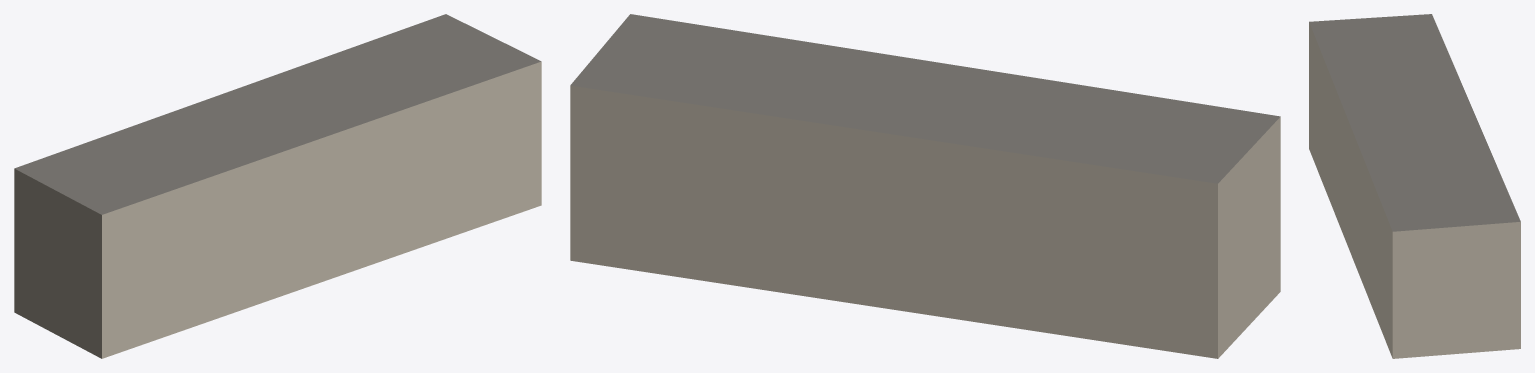
3 views of the same model, side by side, from view 1: azimuth 30°, elevation 25°; view 2: azimuth 150°, elevation 25°; view 3: azimuth 270°, elevation 25° (orthographic). The views are drawn at different scales.
Parts seen in each view (by area): view 1: HP-w505643612; view 2: HP-w505643612; view 3: HP-w505643612.
Part boxes in pixels (bbox=[...]): HP-w505643612: bbox=[14, 14, 541, 358]; HP-w505643612: bbox=[570, 14, 1280, 358]; HP-w505643612: bbox=[1309, 14, 1520, 358].
Bounding box in the file's own units: 66.1 × 18 × 27.18.
